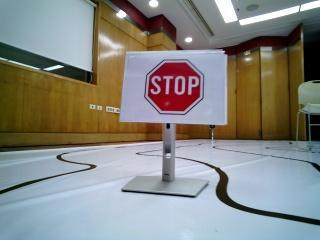stop: (126, 53, 227, 128)
